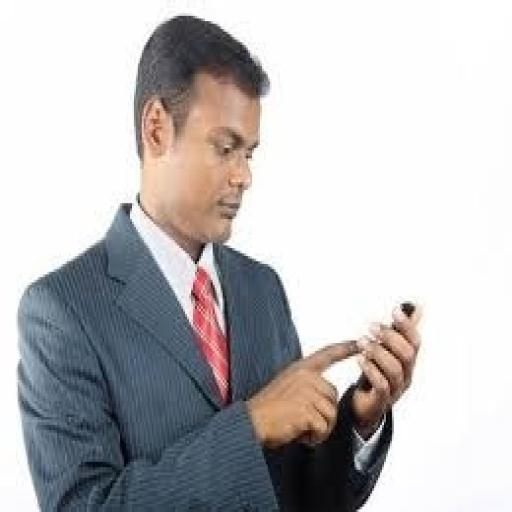texting: (14, 10, 425, 510)
